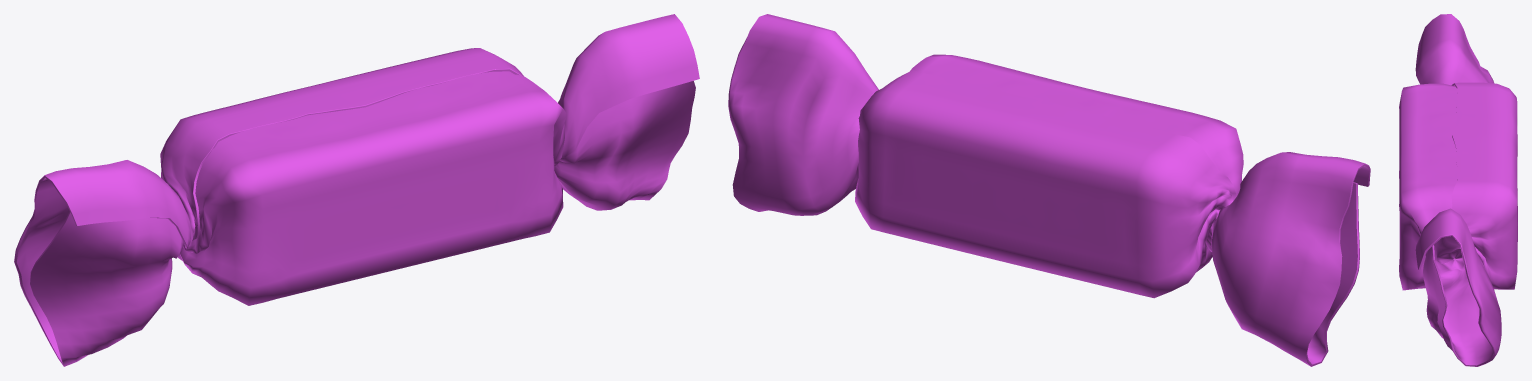
Rendered from mini_candy.glb.
3 views of the same model, side by side, from view 1: azimuth 30°, elevation 25°; view 2: azimuth 150°, elevation 25°; view 3: azimuth 270°, elevation 25° (orthographic). The views are drawn at different scales.
Visible parts, largest first — view 1: Object_2; view 2: Object_2; view 3: Object_2.
Boxes of the visible parts, bbox=[...] form: Object_2: bbox=[14, 14, 699, 366]; Object_2: bbox=[728, 14, 1370, 366]; Object_2: bbox=[1399, 14, 1517, 366].
Bounding box in the file's own units: 28.19 × 8.75 × 6.05.
